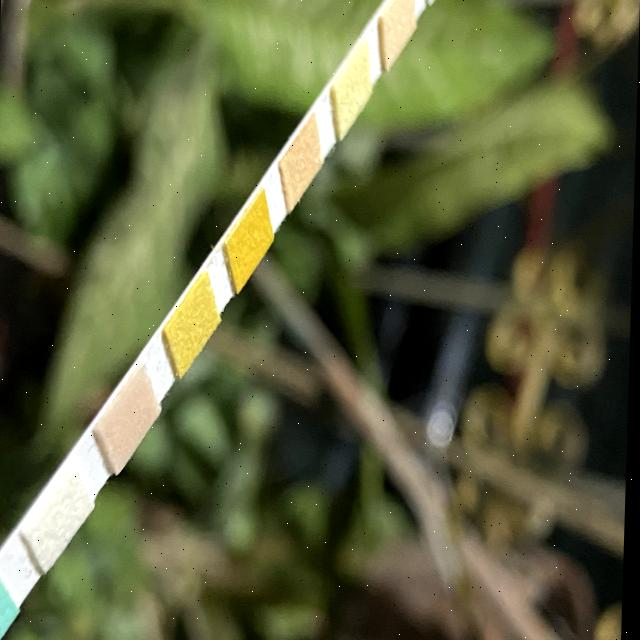Bilirubin: (46, 486, 76, 539)
Blood: (243, 208, 266, 264)
Glucose: (0, 595, 1, 640)
Ketone: (120, 389, 145, 445)
Protein: (342, 60, 365, 116)
SpGravity: (182, 295, 204, 351)
Urobilinogen: (388, 0, 411, 42)
pH: (292, 135, 314, 181)
